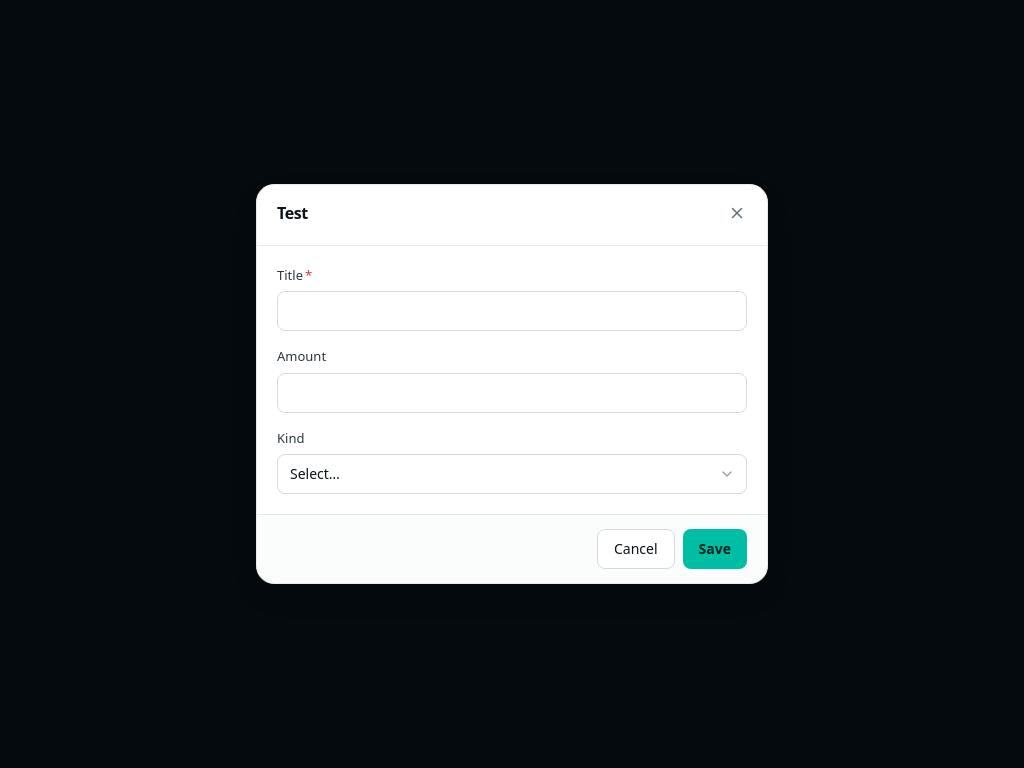
Scenario: FormModal › blocks submission when required fields are empty
The image size is (1024, 768).
Click the button "Save": (715, 549) 683,529 -> 747,569
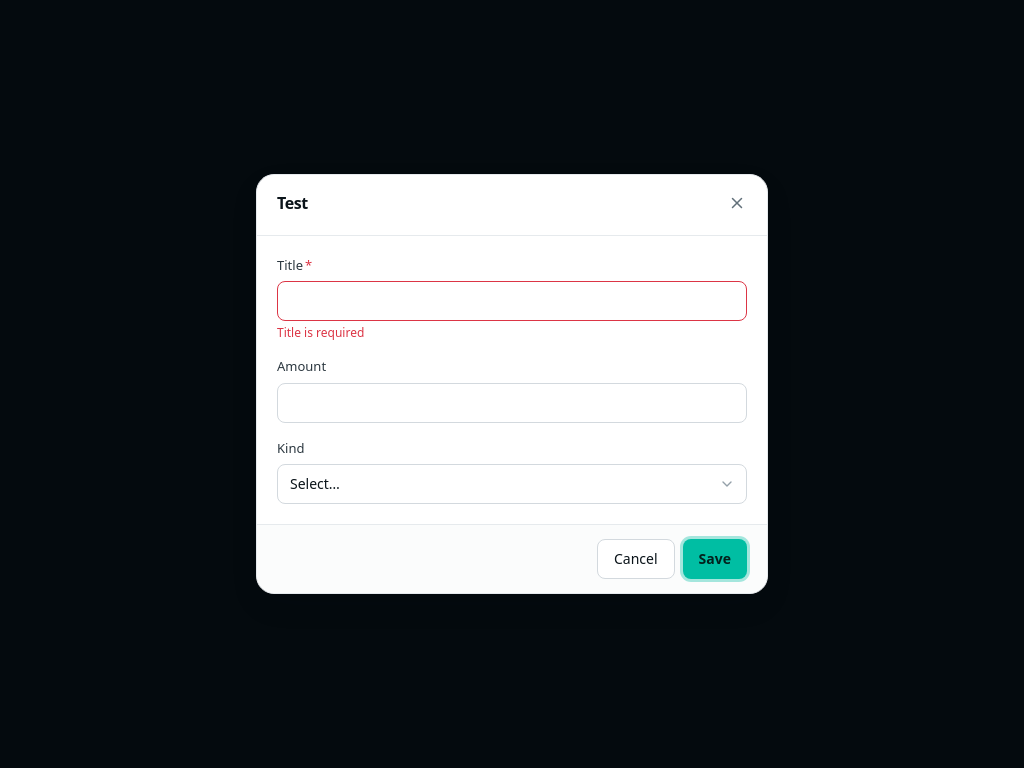
Expected: the text "Title is required" is shown, 277,324 -> 364,341
